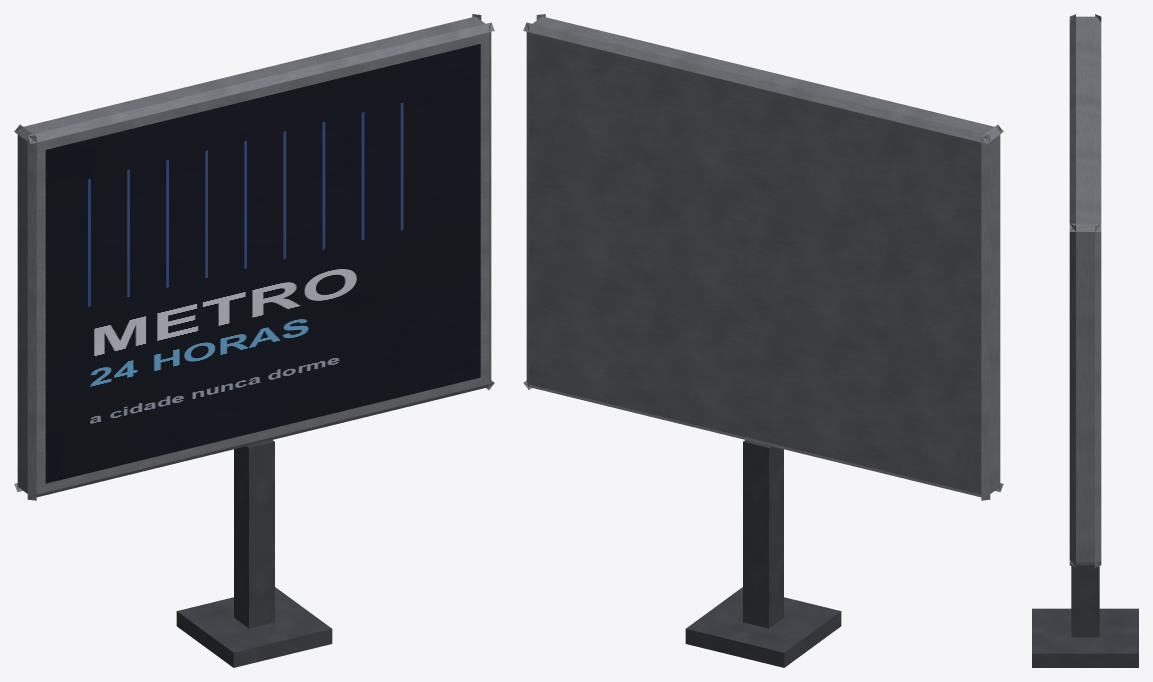
Rendered from map_board.obj.
3 renders of one model, left to right at view 1: azimuth 30°, elevation 25°; view 2: azimuth 150°, elevation 25°; view 3: azimuth 270°, elevation 25°, orthographic. The views are drawn at different scales.
Visible parts, largest first — view 1: map_board; view 2: map_board; view 3: map_board.
Boxes of the visible parts, box(x1,y1,x2,y2) form: map_board: box(14, 14, 494, 667); map_board: box(523, 14, 1003, 667); map_board: box(1032, 14, 1138, 667).
Size of the model in its own units: 1.6 by 1.85 by 0.34.
